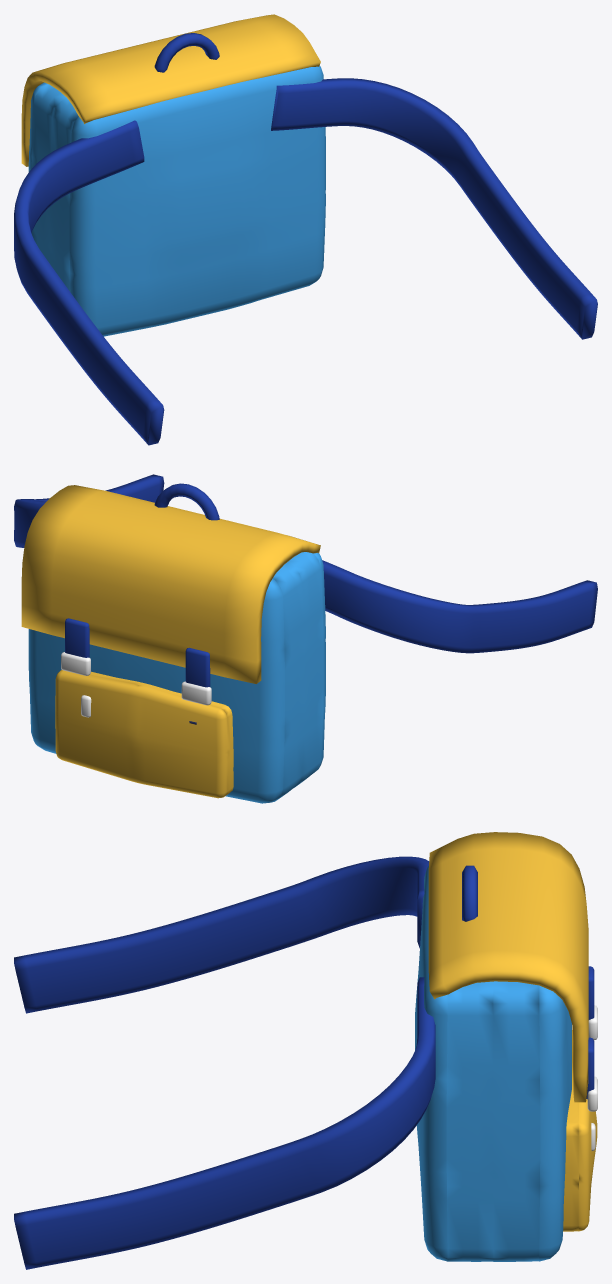
Rendered from backpack-lion.glb.
3 renders of one model, top to bottom at view 1: azimuth 30°, elevation 25°; view 2: azimuth 150°, elevation 25°; view 3: azimuth 270°, elevation 25°, orthographic. The views are drawn at different scales.
Parts seen in each view (by area): view 1: pack, strap, flap, strap.001, handle; view 2: flap, pack, pocketbox, strap.001, strap, handle, tab.001, tab, clip.001, clip; view 3: pack, strap, flap, strap.001, pocketbox, handle.
Part boxes in pixels (left/top/right/bottom): pack: left=28, top=65, right=325, bottom=336; strap: left=271, top=78, right=597, bottom=339; flap: left=21, top=14, right=320, bottom=166; strap.001: left=14, top=120, right=164, bottom=445; handle: left=154, top=33, right=219, bottom=72; flap: left=21, top=485, right=320, bottom=683; pack: left=28, top=552, right=325, bottom=803; pocketbox: left=55, top=670, right=233, bottom=798; strap.001: left=322, top=560, right=597, bottom=653; strap: left=14, top=474, right=164, bottom=547; handle: left=154, top=483, right=219, bottom=520; tab.001: left=185, top=647, right=210, bottom=687; tab: left=65, top=618, right=89, bottom=657; clip.001: left=181, top=681, right=211, bottom=705; clip: left=61, top=652, right=90, bottom=675; pack: left=415, top=866, right=571, bottom=1261; strap: left=14, top=977, right=435, bottom=1269; flap: left=428, top=832, right=588, bottom=1102; strap.001: left=14, top=856, right=429, bottom=1013; pocketbox: left=563, top=1030, right=597, bottom=1231; handle: left=462, top=865, right=477, bottom=921.
Size of the model in its own units: 1.33 by 0.7792 by 1.25.
